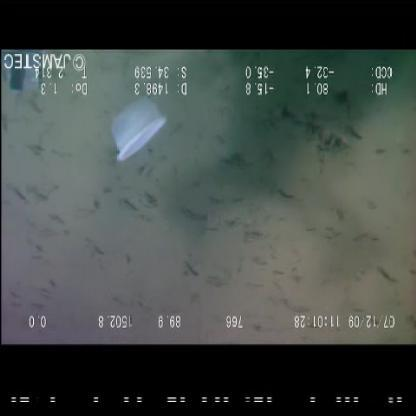Rác: (101, 96, 175, 166)
